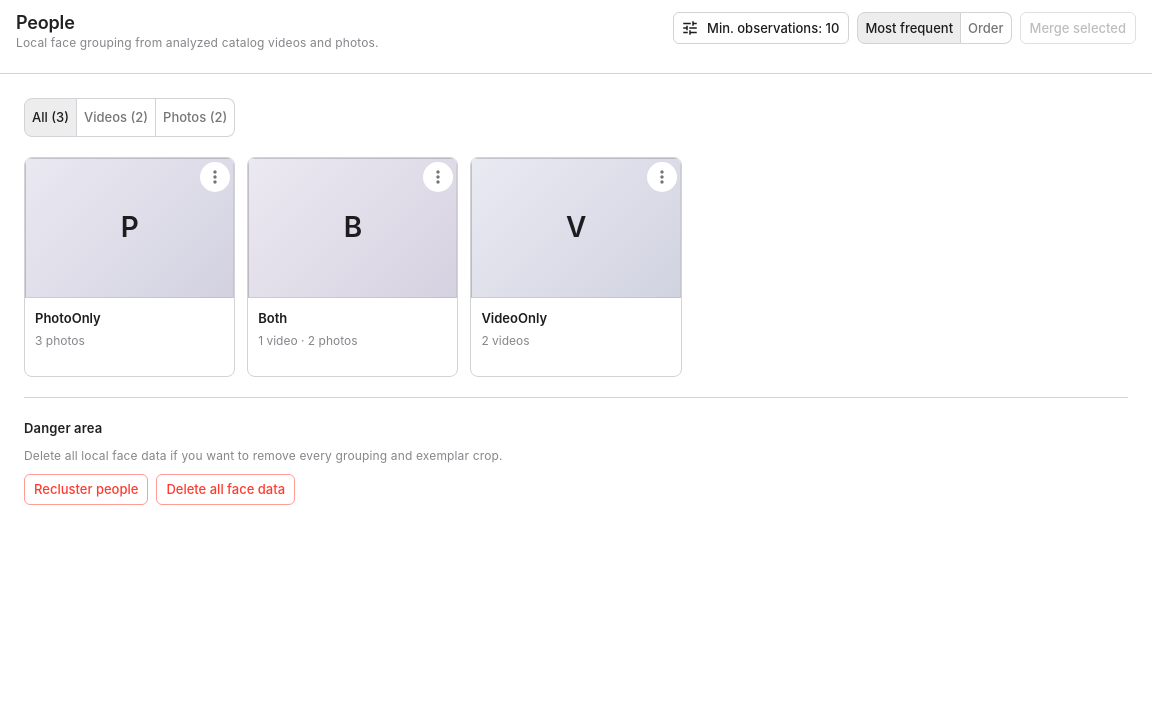
Test: PeopleView media chips › narrows the person list to the chosen medium and counts that medium alone
Expected: the element with test id "people-grid" is shown, [24,157,682,377]
Click the button with test id "people-media-photo" at (195, 117), box [155,98,235,137]
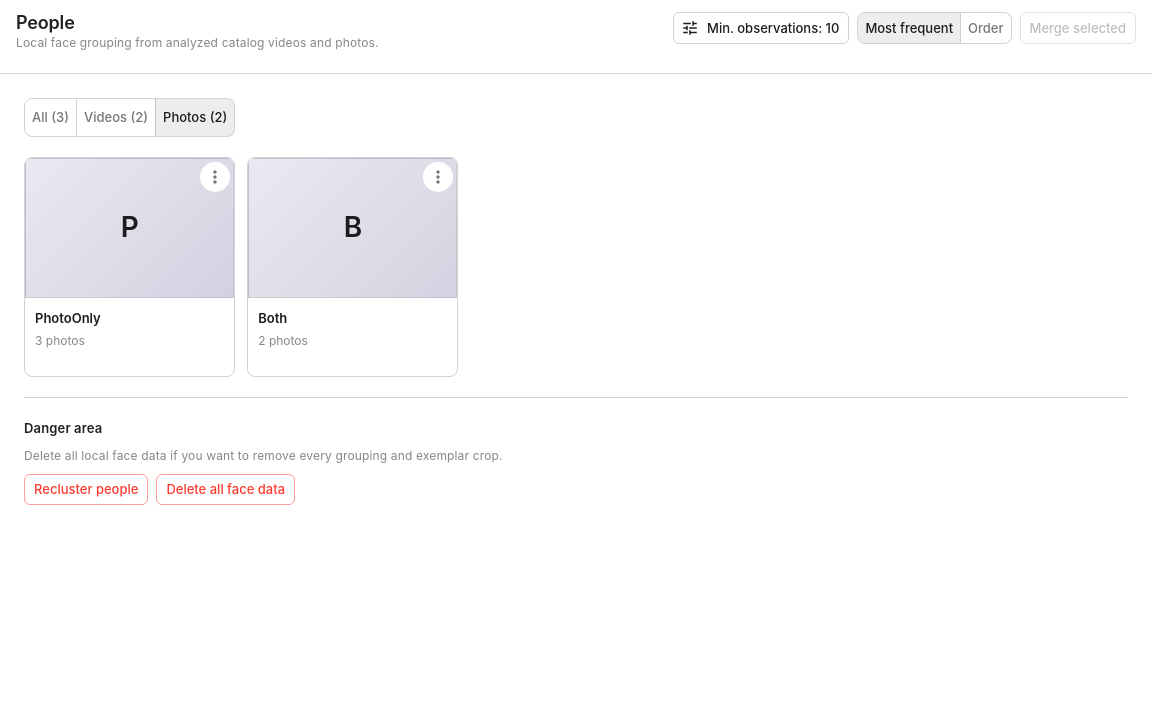
Expected: the element with test id "people-grid" shows "2 photos", [248,298,457,376]
Click the button with test id "people-media-video" at (116, 117), box [76,98,156,137]
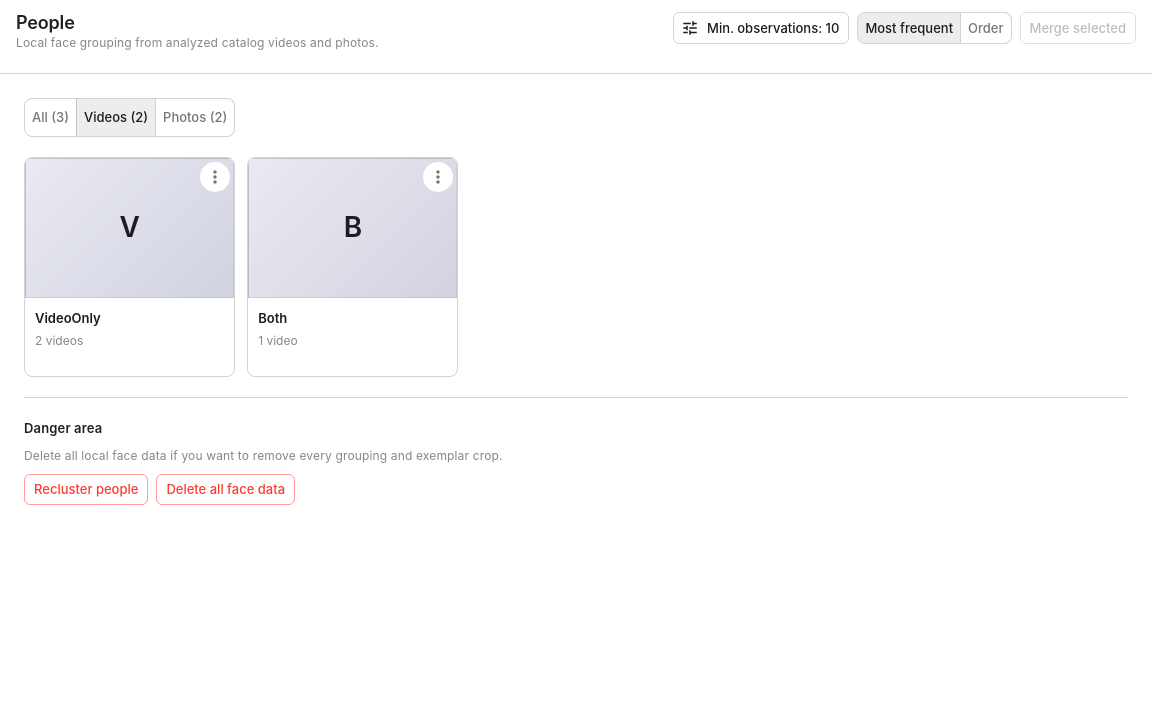
Expected: the element with test id "people-grid" shows "2 videos", [25,298,234,376]
